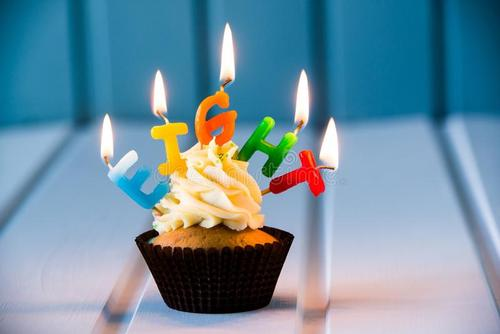Fire: (320, 114, 343, 172), (292, 68, 313, 129), (220, 19, 236, 86), (147, 69, 169, 116), (99, 112, 115, 162)
